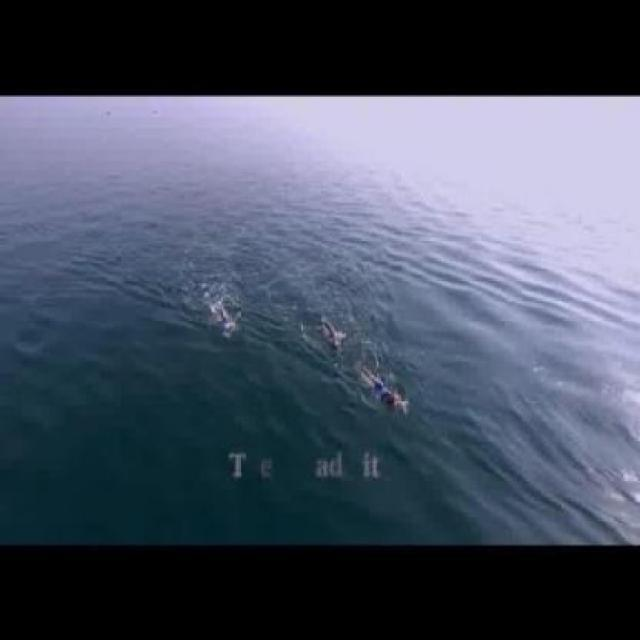swimming: (363, 374, 416, 426), (203, 295, 248, 339), (305, 314, 345, 353)
